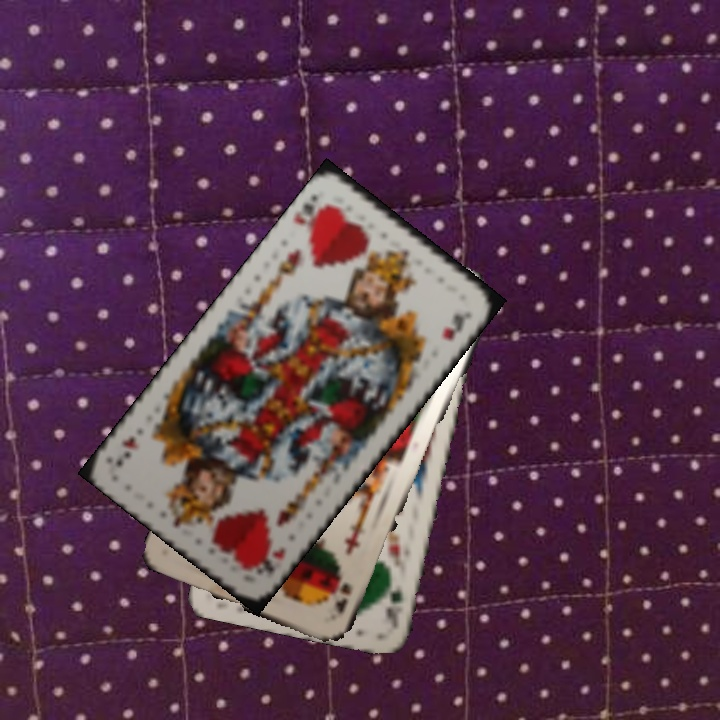GK: (381, 582, 406, 632)
HK: (289, 190, 333, 228), (254, 542, 288, 581)
SK: (331, 579, 355, 618)
